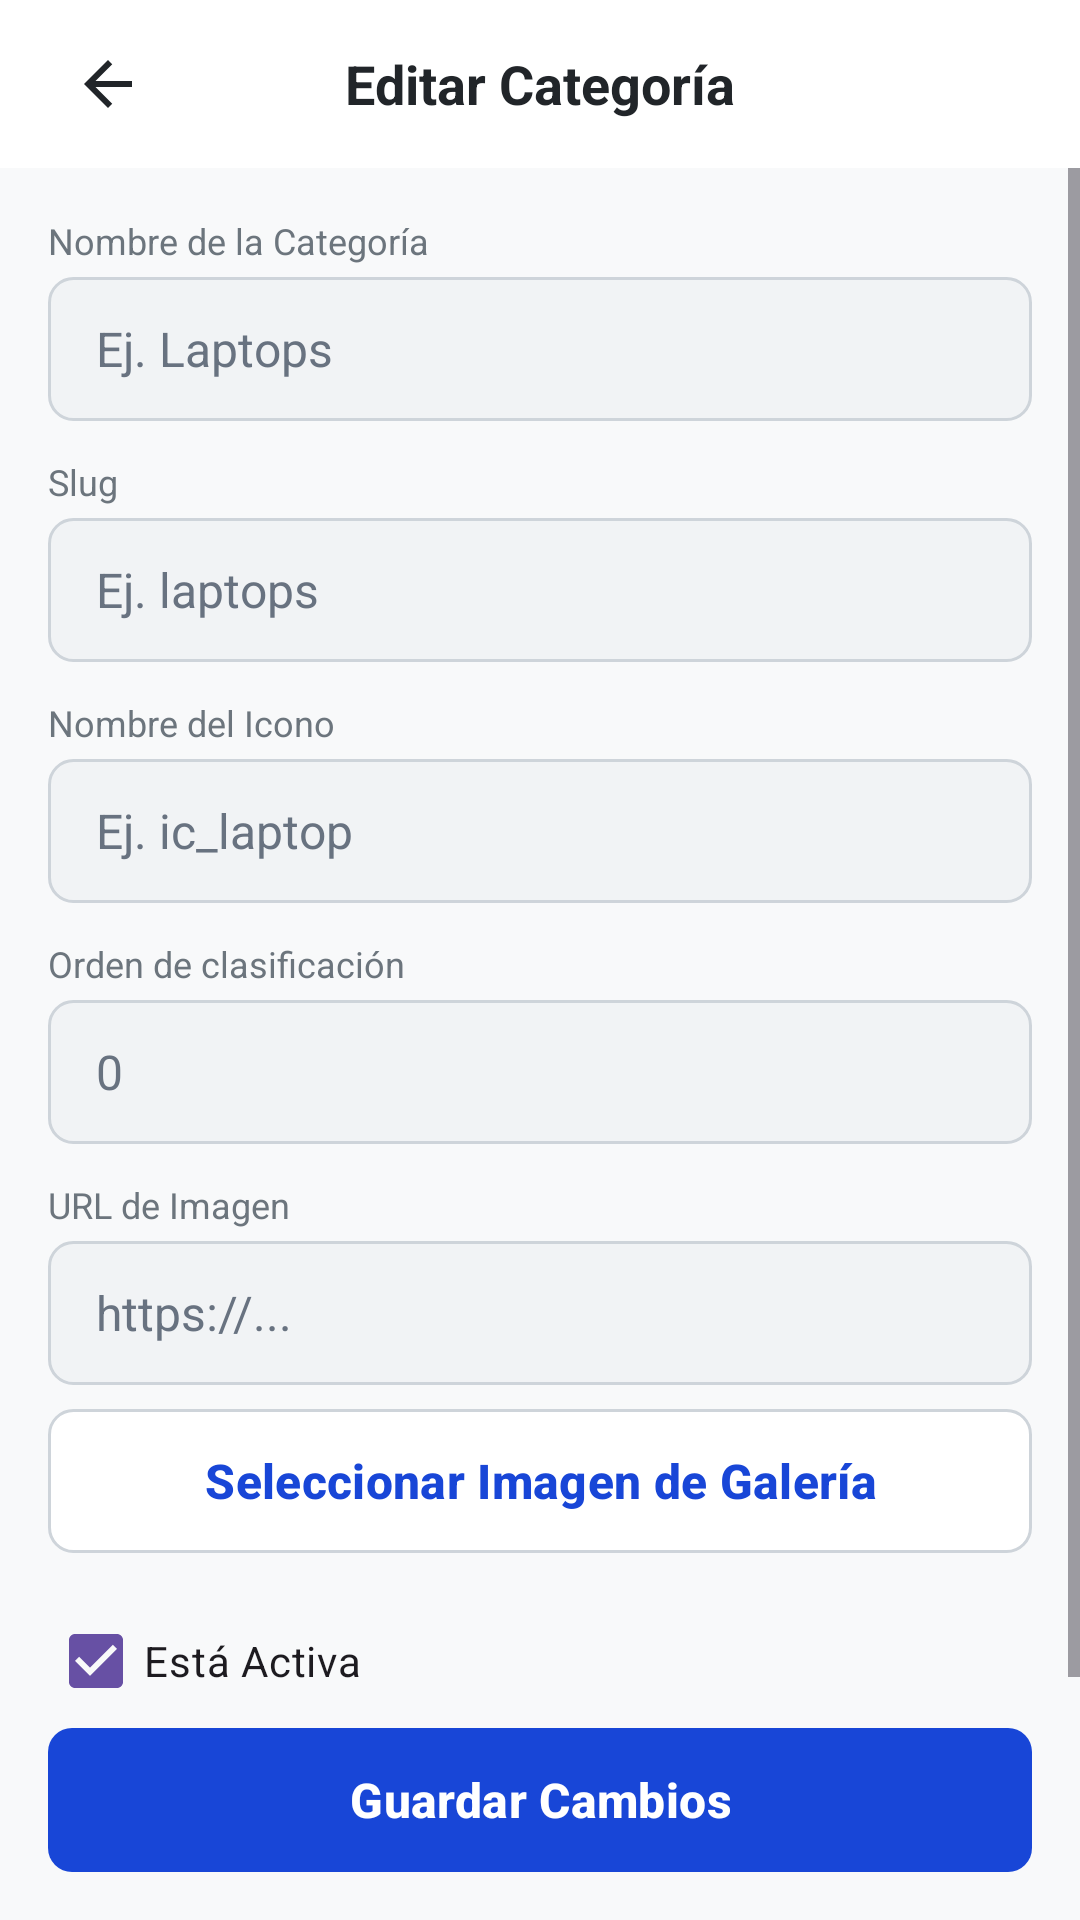

Icon click points for this 1080*1920 phone screenshot, format [x,y]:
Back: [108,84]
